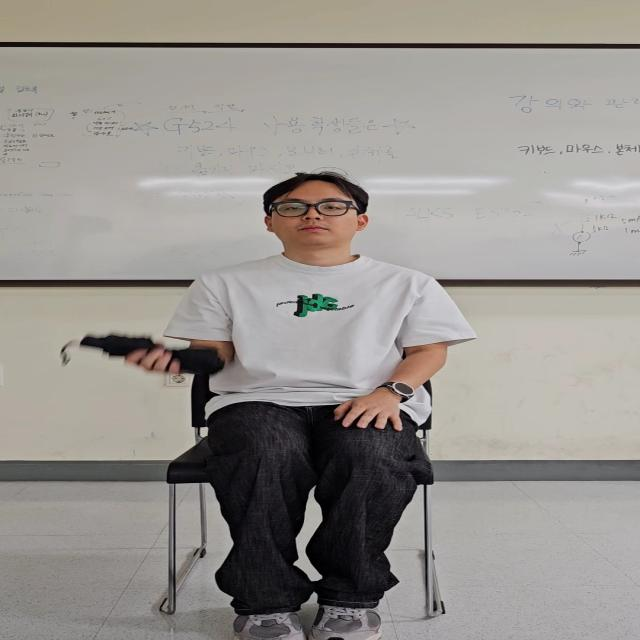curl: (109, 264, 245, 394)
